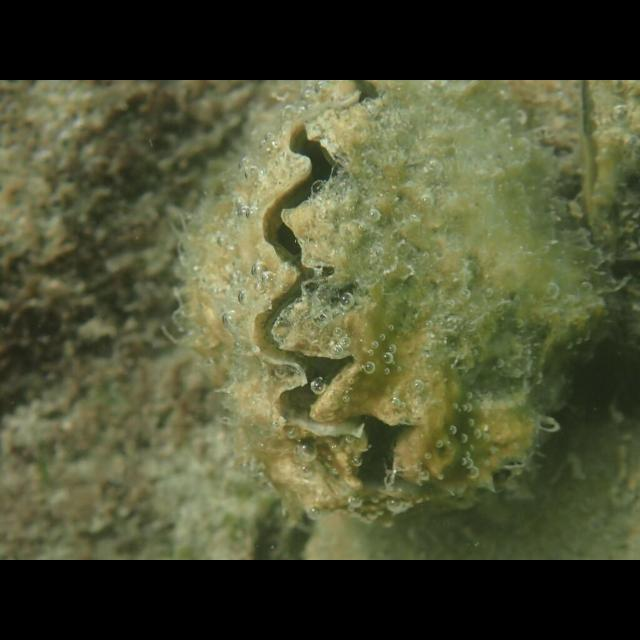Oyster-Open: (200, 80, 594, 518)
